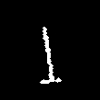double_crochet: (40, 27, 60, 83)
